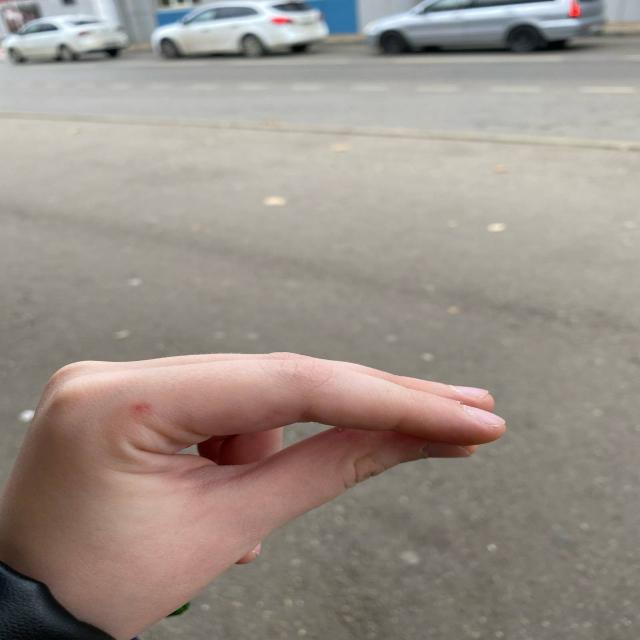ch: (25, 317, 511, 600)
